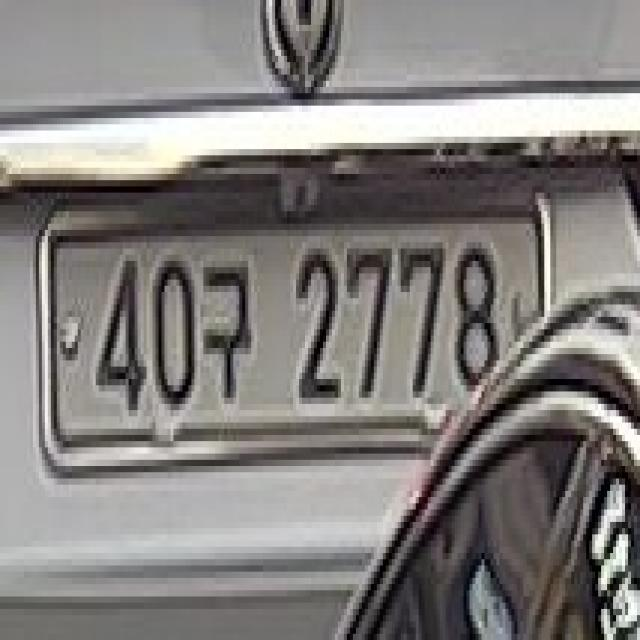0: (150, 249, 198, 410)
2: (290, 242, 341, 404)
4: (92, 255, 146, 422)
7: (398, 230, 446, 404), (344, 242, 392, 404)
8: (452, 236, 499, 392)
gu: (200, 261, 254, 410)
license_plate: (36, 187, 553, 472)
